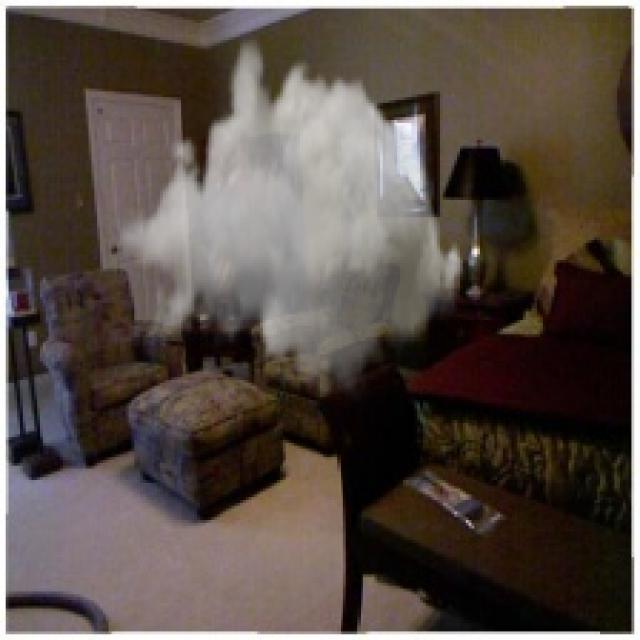Smoke: (117, 37, 469, 406)
